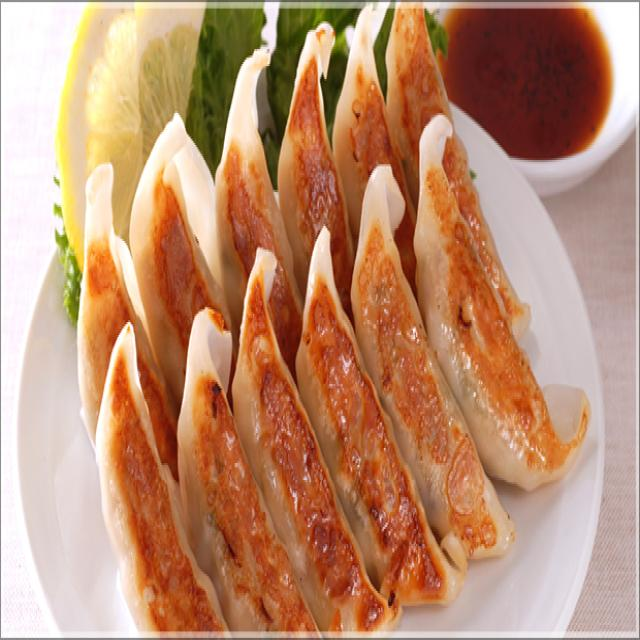带馅早点: (62, 0, 583, 640)
